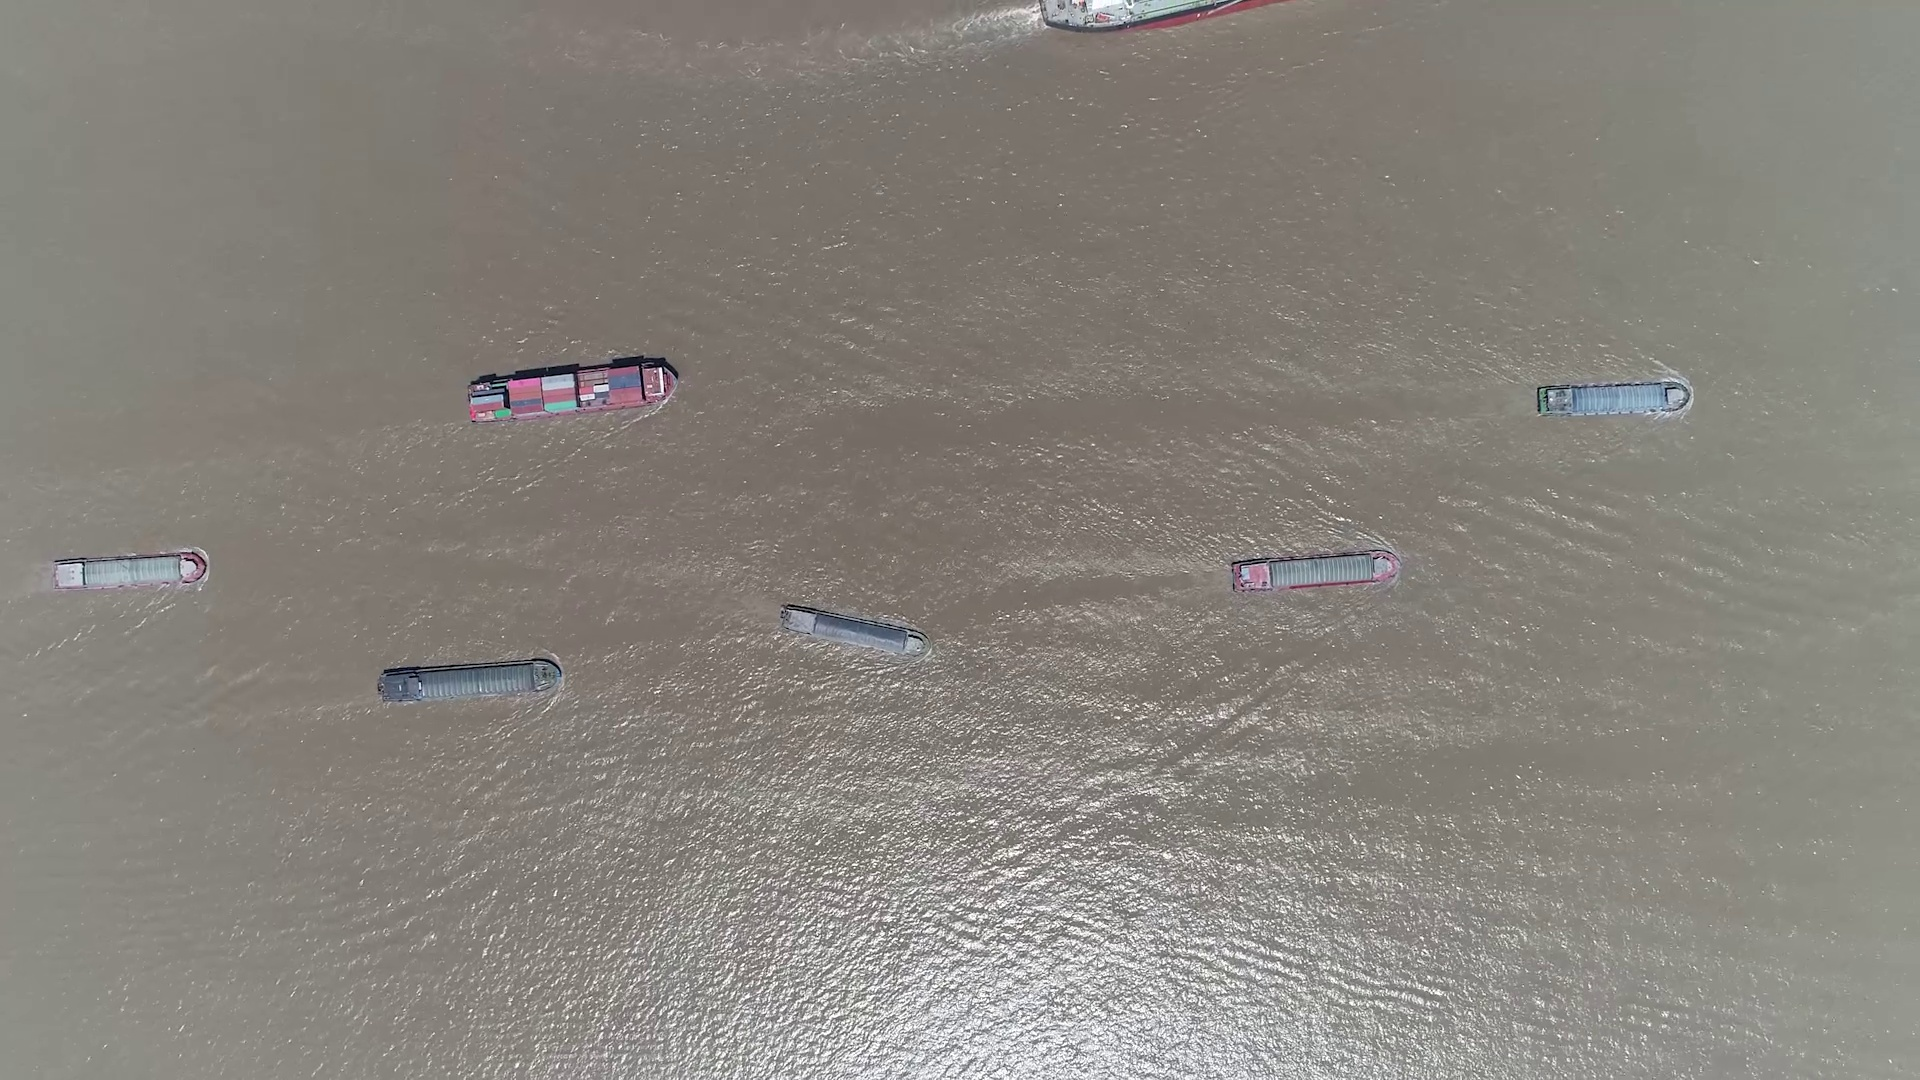ship: (467, 360, 679, 425), (378, 659, 560, 703), (781, 604, 928, 655), (1232, 549, 1400, 593), (1039, 1, 1271, 32), (51, 553, 206, 591), (1536, 381, 1689, 415)
